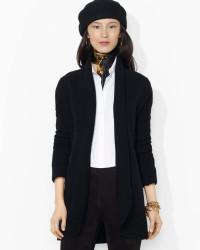S_cardigan sweater: (40, 61, 170, 205)
